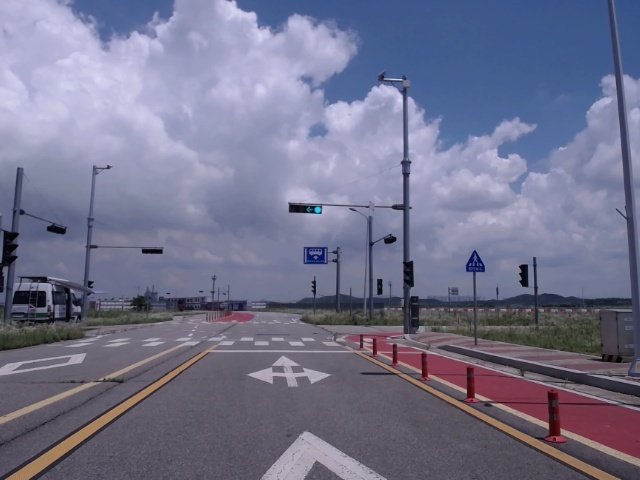all_green_4: (288, 202, 321, 214)
